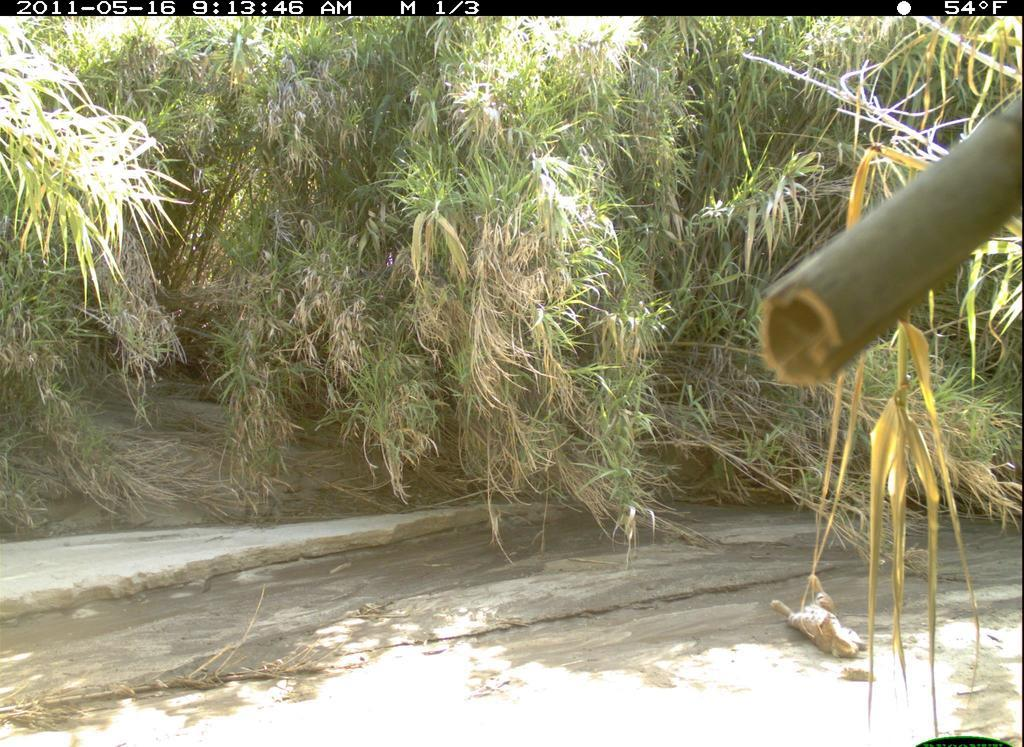bobcat: (770, 571, 876, 666)
